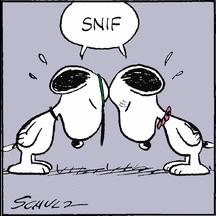snoopy: (1, 64, 213, 176)
